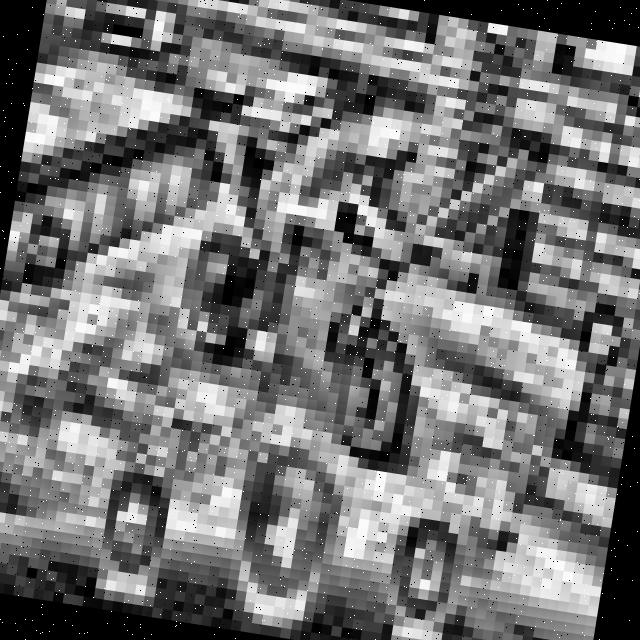mopeds: (140, 129, 452, 464)
